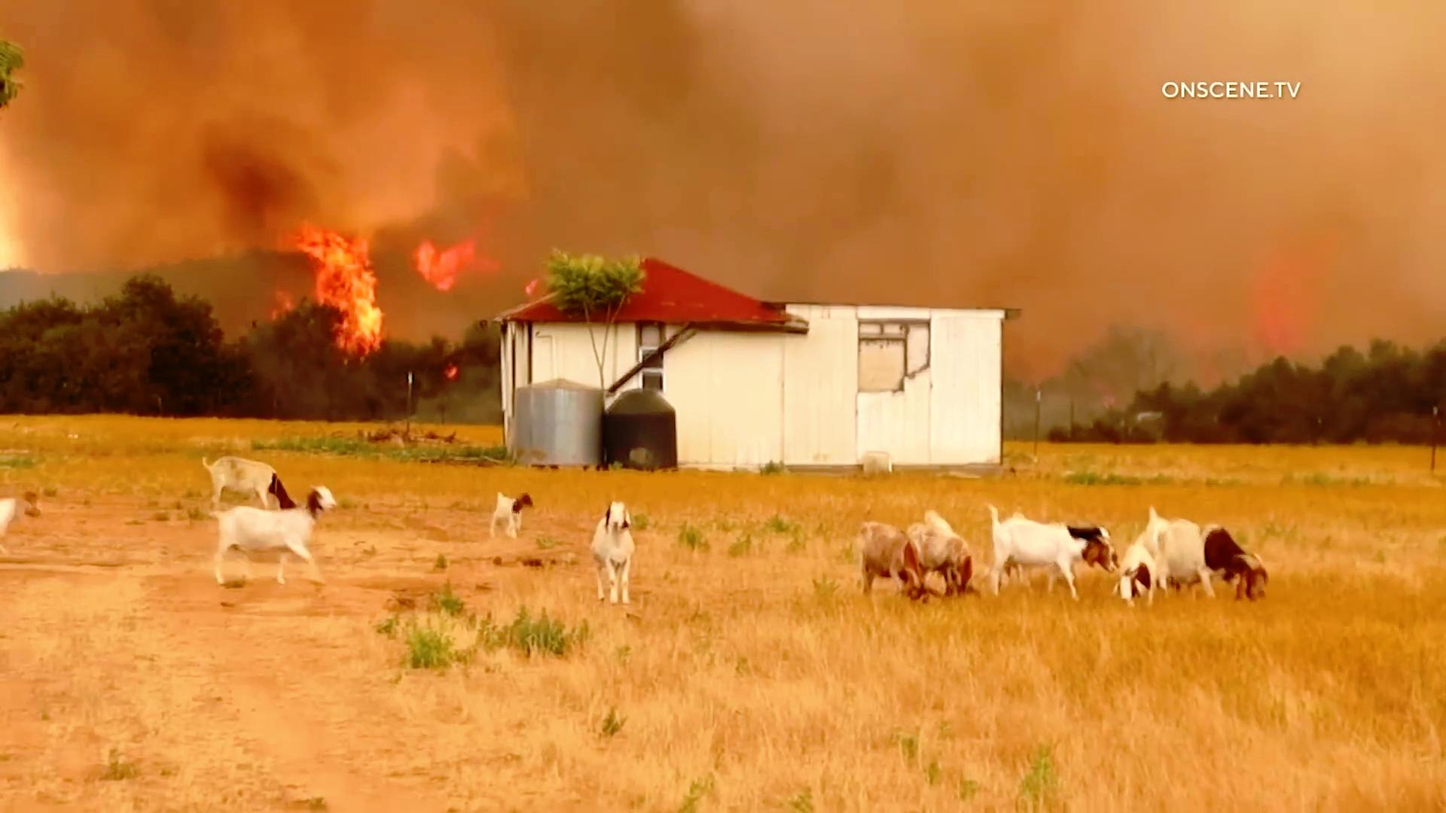fire: (285, 224, 402, 365), (400, 213, 531, 303)
smoke: (324, 12, 947, 186)
